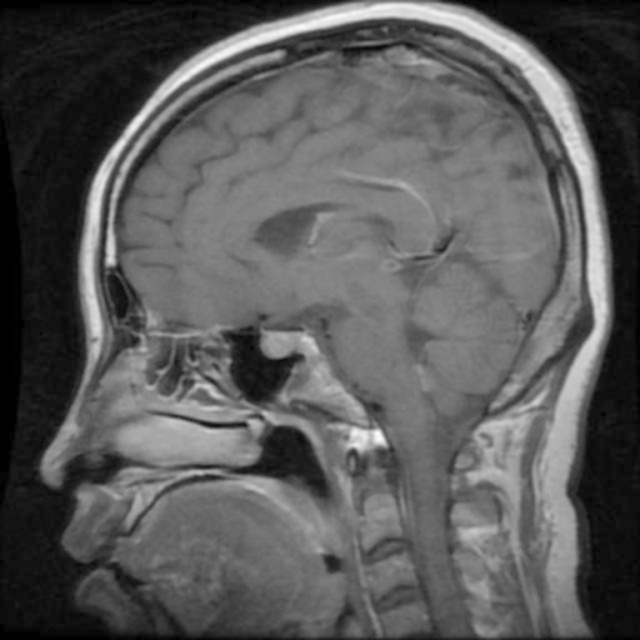no tumor: (255, 311, 321, 361)
